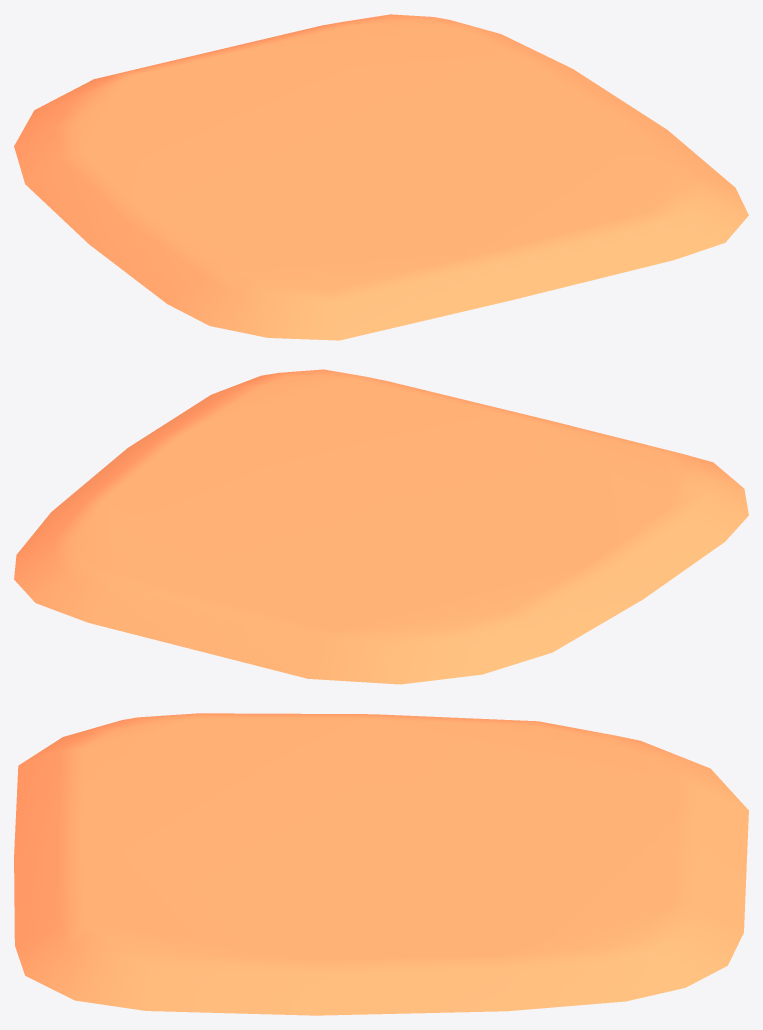
Rendered from PlatformGround_03.glb.
3 views of the same model, one above another, from view 1: azimuth 30°, elevation 25°; view 2: azimuth 150°, elevation 25°; view 3: azimuth 270°, elevation 25° (orthographic). The views are drawn at different scales.
Parts seen in each view (by area): view 1: PlatformGround_03; view 2: PlatformGround_03; view 3: PlatformGround_03.
Part boxes in pixels (box(x1,y1,x2,y2)): PlatformGround_03: box(14, 14, 748, 340); PlatformGround_03: box(14, 369, 748, 684); PlatformGround_03: box(14, 713, 748, 1015).
Bounding box in the file's own units: 3 × 0.1258 × 3.1.
1 material, 1 textured.
